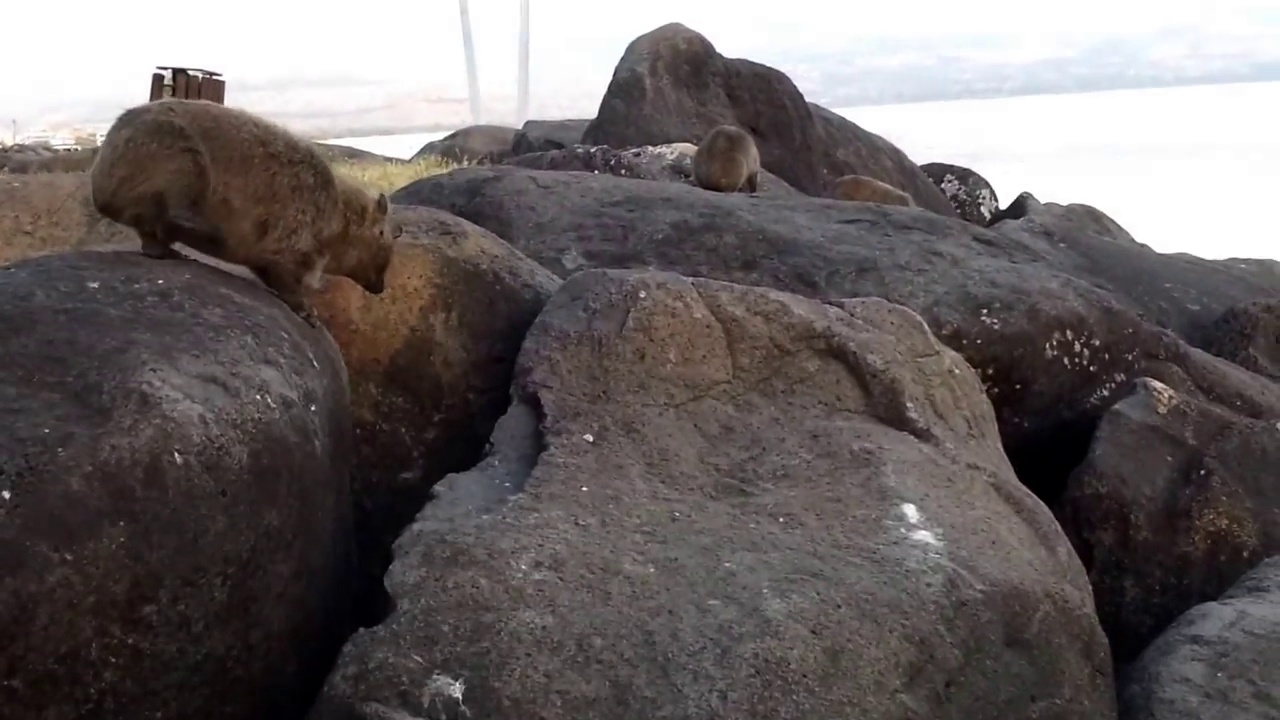Rock Hyrex: (93, 100, 401, 326), (691, 123, 762, 200), (819, 173, 922, 215)
